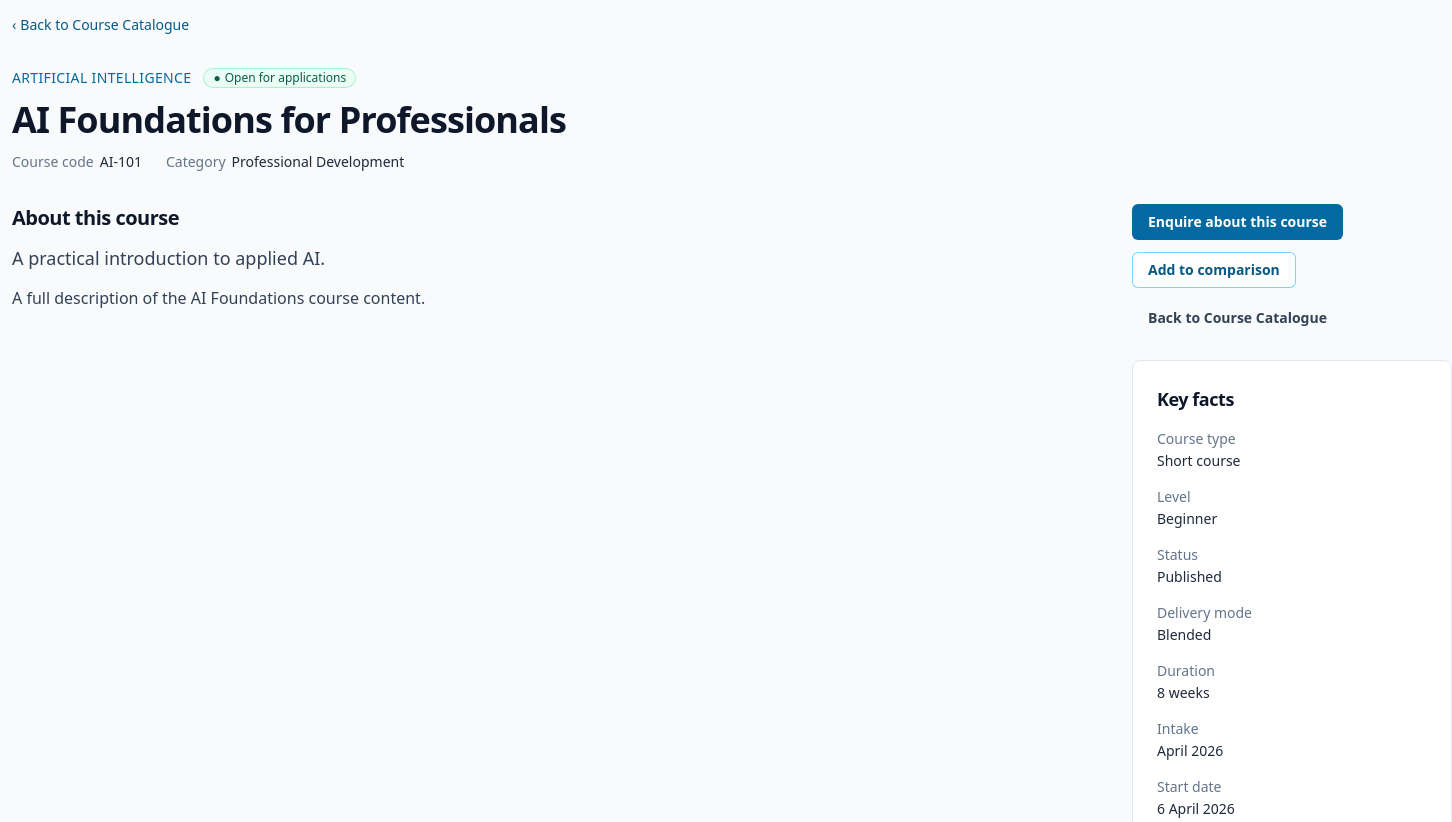
Test case: Details route host wires a working shared provider (FR-623, FR-604) › reflects an add-from-Details in the shared comparison state (AC-604)
The image size is (1452, 822).
Click the button "Add to comparison" at (1214, 270), box left=1132, top=252, right=1296, bottom=288
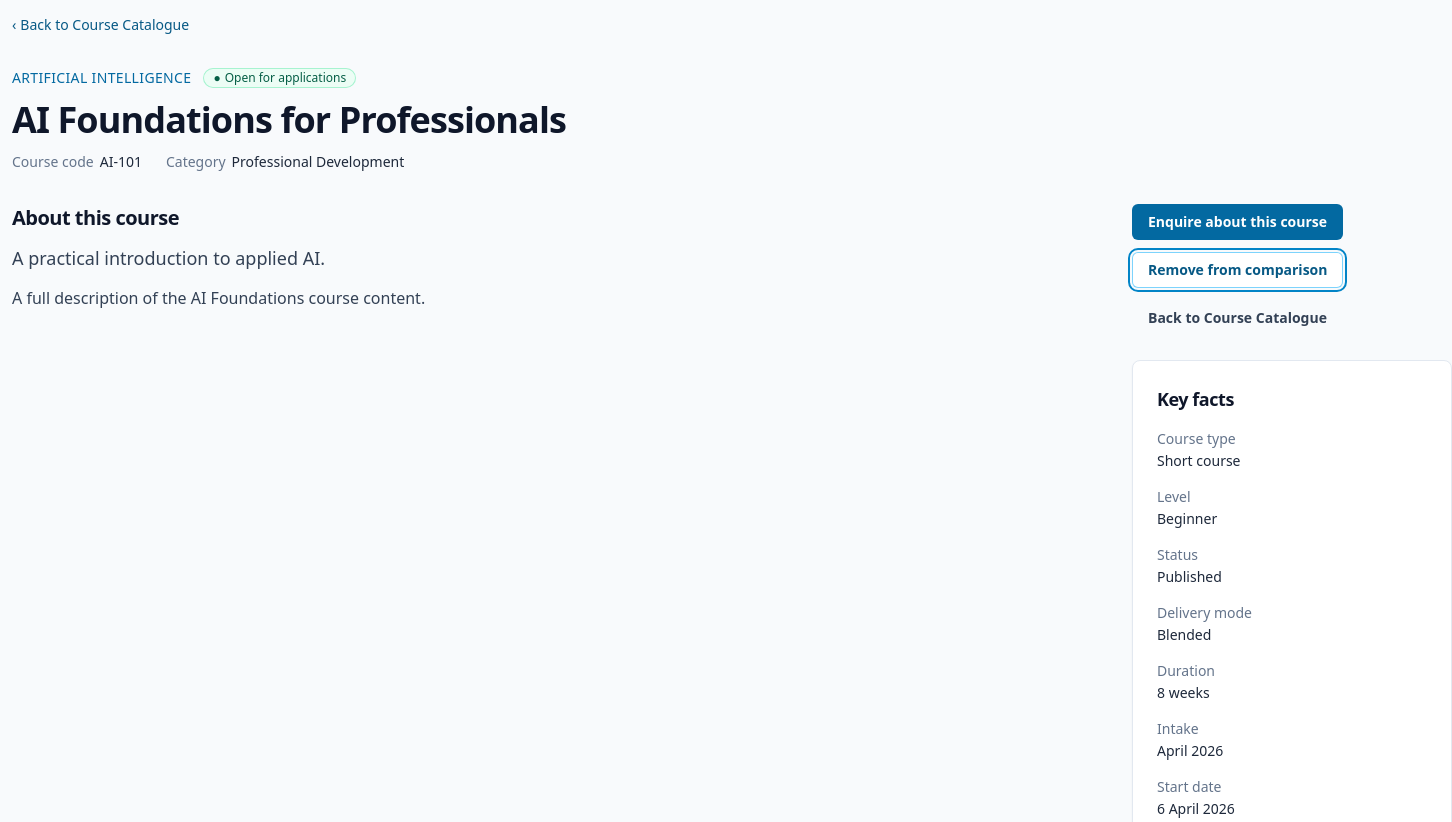
Expected: the button "Remove from comparison" is shown, left=1132, top=252, right=1344, bottom=288
